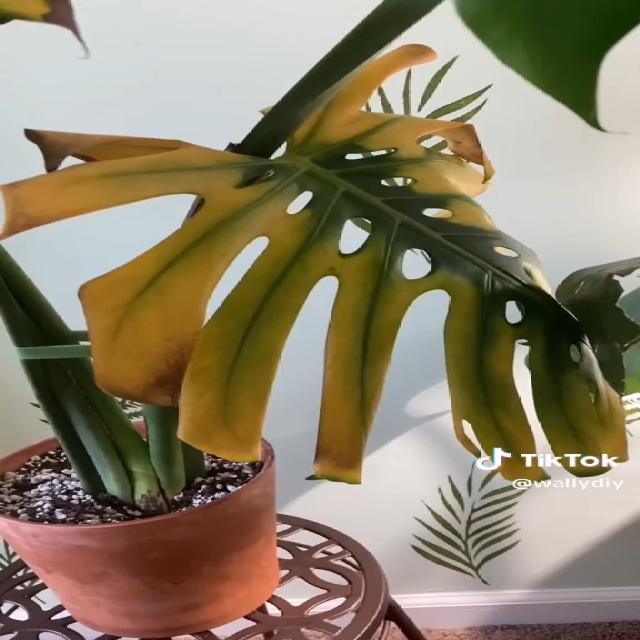lisc_przelany: (0, 45, 640, 487)
roslina_przelana: (0, 0, 640, 511)
